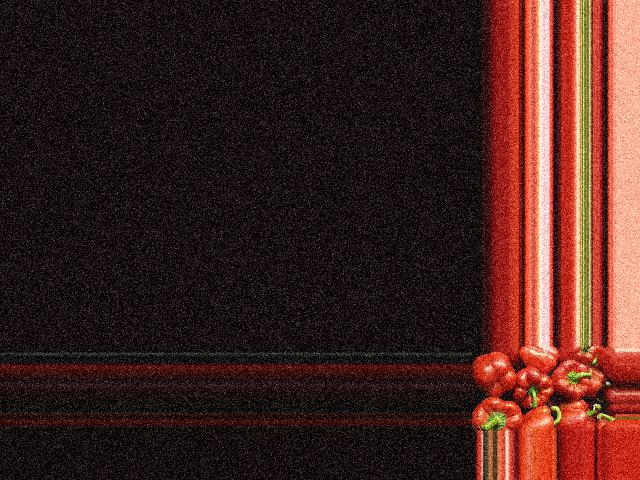bell_pepper: (518, 347, 557, 369)
